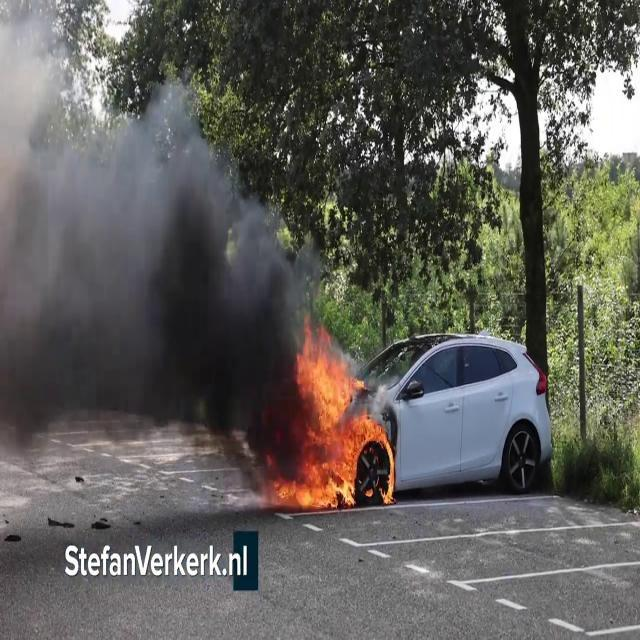Fire: (272, 333, 398, 513)
Smoke: (0, 47, 305, 470)
